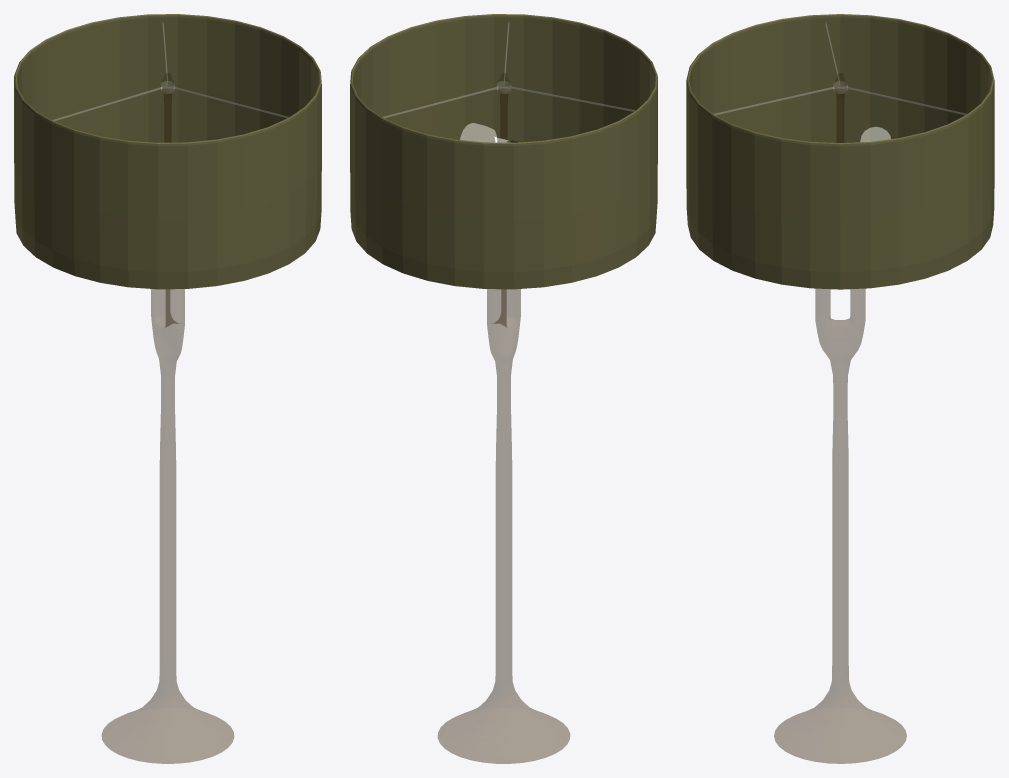
The model's file is lamp-ghost.glb.
3 renders of one model, left to right at view 1: azimuth 30°, elevation 25°; view 2: azimuth 150°, elevation 25°; view 3: azimuth 270°, elevation 25°, orthographic.
Parts seen in each view (by area): view 1: Object_5, Object_4, Object_2; view 2: Object_5, Object_4, Object_2, Object_6; view 3: Object_5, Object_4, Object_2.
Boxes of the visible parts, x1=… form: Object_5: x1=14, y1=14, x2=321, y2=289; Object_4: x1=102, y1=73, x2=233, y2=763; Object_2: x1=52, y1=22, x2=288, y2=120; Object_5: x1=350, y1=14, x2=657, y2=289; Object_4: x1=438, y1=73, x2=569, y2=763; Object_2: x1=383, y1=22, x2=635, y2=117; Object_6: x1=460, y1=123, x2=509, y2=142; Object_5: x1=686, y1=14, x2=994, y2=289; Object_4: x1=774, y1=73, x2=906, y2=763; Object_2: x1=714, y1=23, x2=966, y2=114.
Size of the model in its own units: 0.6525 by 1.55 by 0.6525.
